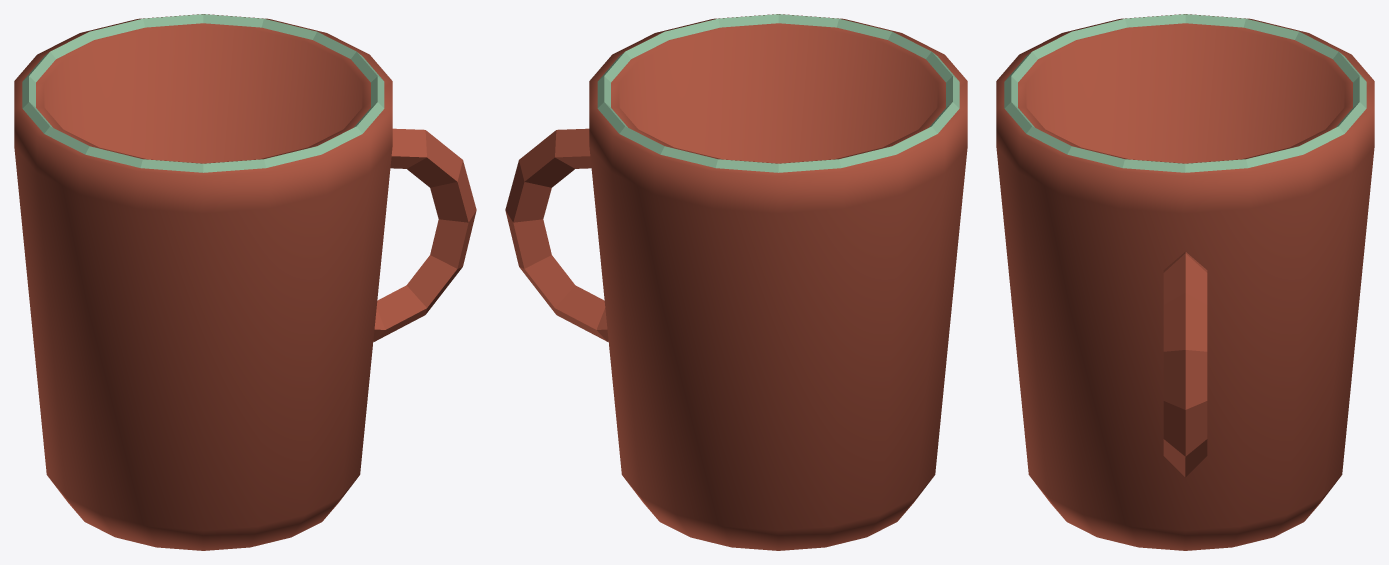
Rendered from blossom_tea_cup.glb.
3 renders of one model, left to right at view 1: azimuth 30°, elevation 25°; view 2: azimuth 150°, elevation 25°; view 3: azimuth 270°, elevation 25°, orthographic.
Parts seen in each view (by area): view 1: blossom_tea_cup.005; view 2: blossom_tea_cup.005; view 3: blossom_tea_cup.005.
Boxes of the visible parts, x1,y1,x2,y2 form: blossom_tea_cup.005: (14,14,476,550); blossom_tea_cup.005: (505,14,967,550); blossom_tea_cup.005: (996,14,1374,550).
Size of the model in its own units: 0.185 by 0.1625 by 0.1379.
Materials: 1 (1 with a texture image).
